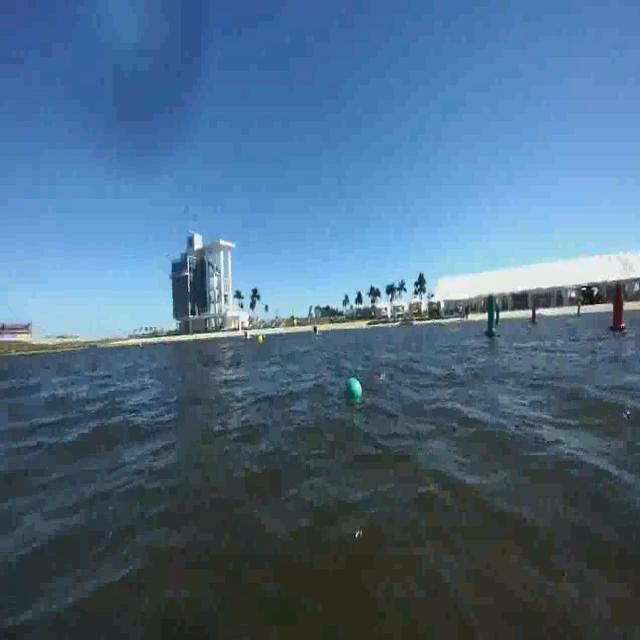green-buoy: (346, 378, 361, 402)
green-column-buoy: (486, 301, 500, 340)
red-column-buoy: (610, 284, 630, 334), (530, 301, 538, 325)
yellow-buoy: (257, 335, 264, 346)
